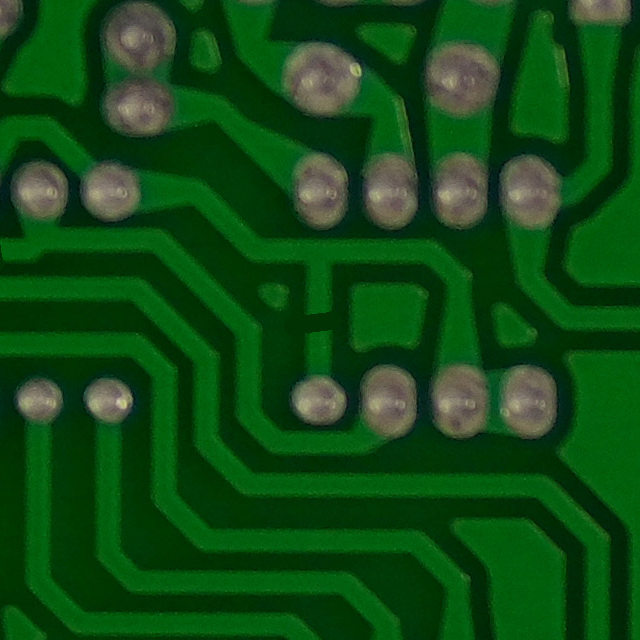open_circuit: (295, 295, 345, 345), (0, 228, 17, 271)
